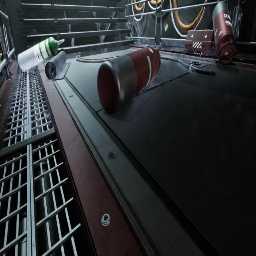0: (18, 37, 65, 72)
FirstAidBox ,: (185, 29, 215, 57)
NitrogenTank ,: (97, 46, 161, 114), (212, 1, 236, 66)
